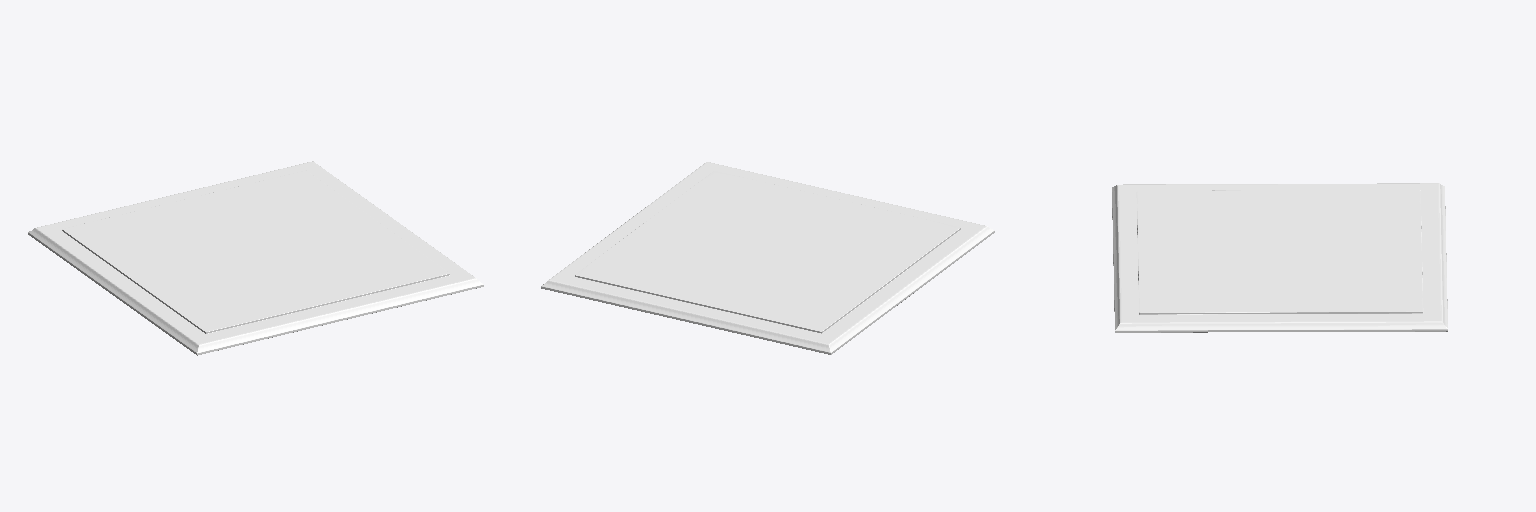
Rendered from grass.obj.
The picture shows the model from 3 angles: view 1: azimuth 30°, elevation 25°; view 2: azimuth 150°, elevation 25°; view 3: azimuth 270°, elevation 25°; orthographic projection.
Visible parts, largest first — view 1: 12951_Stone_Chess_Board_v1_L3.001; view 2: 12951_Stone_Chess_Board_v1_L3.001; view 3: 12951_Stone_Chess_Board_v1_L3.001.
Boxes of the visible parts, x1=… form: 12951_Stone_Chess_Board_v1_L3.001: x1=28, y1=161, x2=483, y2=355; 12951_Stone_Chess_Board_v1_L3.001: x1=541, y1=162, x2=994, y2=354; 12951_Stone_Chess_Board_v1_L3.001: x1=1112, y1=183, x2=1447, y2=332.
Size of the model in its own units: 622 by 24.01 by 622.